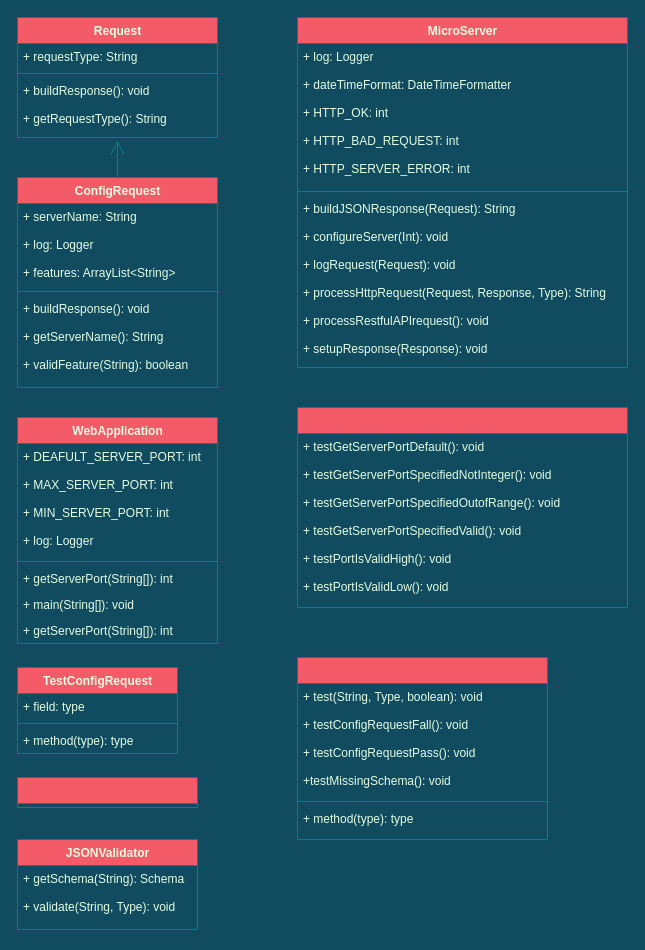
This 645x950 diagram has some shape labels left out. Here are the shapes that lost their labels. From the top down, the box of each, then its label:
(296, 406, 628, 608): TestWebApplication
(296, 656, 548, 840): TestJSONValidator
(16, 776, 198, 808): BadRequestException
